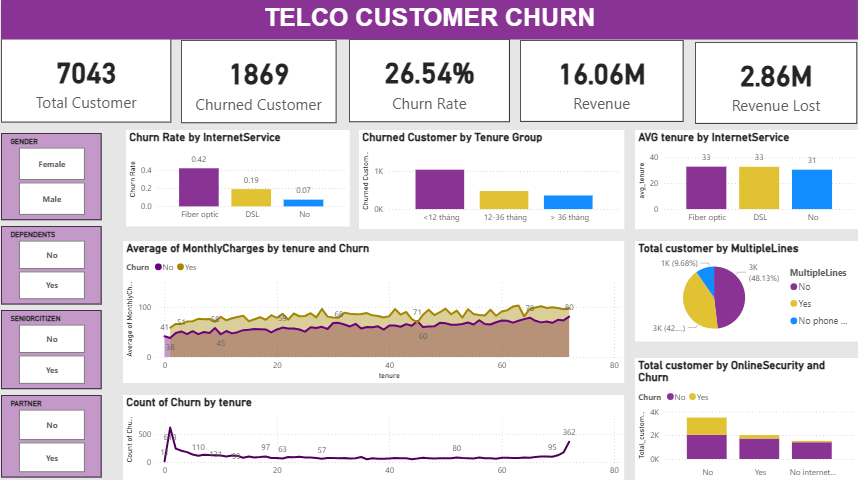

The page's visual inventory and layout, read from the dashboard file:
{"tool":"powerbi","page":{"name":"Page 1","canvas":[1280,720],"ordinal":0},"visuals":[{"type":"card","fields":{"Values":["Count(Telco-Customer-Churn (2).customerID)"]},"box":[0,57.1,254.3,125.7],"z":0},{"type":"card","fields":{"Values":["Telco-Customer-Churn (2).Churned_customer"]},"box":[268,60,232,124],"z":1000},{"type":"card","fields":{"Values":["Telco-Customer-Churn (2).Churn_Rate"]},"box":[520,58,240,124],"z":2000},{"type":"clusteredColumnChart","title":"Churned Customer by Tenure Group","fields":{"Y":["Telco-Customer-Churn (2).Churned_customer"],"Category":["Telco-Customer-Churn (2).Tenure Group"]},"box":[534,194,396,148],"z":3000},{"type":"clusteredColumnChart","title":"AVG tenure by InternetService","fields":{"Y":["Telco-Customer-Churn (2).avg_tenure"],"Category":["Telco-Customer-Churn (2).InternetService"]},"box":[946,194,334,148],"z":4000},{"type":"columnChart","title":"Total customer by OnlineSecurity and Churn","fields":{"Y":["Telco-Customer-Churn (2).Total_customer"],"Series":["Telco-Customer-Churn (2).Churn"],"Category":["Telco-Customer-Churn (2).OnlineSecurity"]},"box":[946,534.9,333.3,185.7],"z":5000},{"type":"pieChart","title":"Total customer by MultipleLines","fields":{"Category":["Telco-Customer-Churn (2).MultipleLines"],"Y":["Telco-Customer-Churn (2).Total_customer"]},"box":[946,360,334,150],"z":6000},{"type":"slicer","fields":{"Values":["Telco-Customer-Churn (2).Dependents"]},"box":[0,337,150,117],"z":7000},{"type":"slicer","fields":{"Values":["Telco-Customer-Churn (2).SeniorCitizen"]},"box":[0,462,150,118],"z":8000},{"type":"columnChart","title":"Churn Rate by InternetService","fields":{"Category":["Telco-Customer-Churn (2).InternetService"],"Y":["Telco-Customer-Churn (2).Churn_Rate"]},"box":[186,194,334,144],"z":9000},{"type":"textbox","box":[0,0,1279,58.5],"z":10000},{"type":"slicer","fields":{"Values":["Telco-Customer-Churn (2).gender"]},"box":[0,198.3,150,130],"z":11000},{"type":"card","fields":{"Values":["Telco-Customer-Churn (2).Revenue Lost"]},"box":[1036,62,242,122],"z":12000},{"type":"card","fields":{"Values":["Sum(Telco-Customer-Churn (2).TotalCharges)"]},"box":[774,60,244,122],"z":13000},{"type":"areaChart","fields":{"Category":["Telco-Customer-Churn (2).tenure"],"Y":["Avg(Telco-Customer-Churn (2).MonthlyCharges)"],"Series":["Telco-Customer-Churn (2).Churn"]},"box":[182,360,748,212],"z":14000},{"type":"slicer","fields":{"Values":["Telco-Customer-Churn (2).Partner"]},"box":[0,589,150,123],"z":15000},{"type":"lineChart","fields":{"Category":["Telco-Customer-Churn (2).tenure"],"Y":["CountNonNull(Telco-Customer-Churn (2).Churn)"]},"box":[182,590,748,130],"z":16000}]}

Visuals, with their boxes in screenshot pixels (x1, y1, x2, y2), scaled from the page's 1280x720 canvas onto the 858x480 screenshot:
card - Count(Telco-Customer-Churn (2).customerID): <region>0, 38, 170, 122</region>
card - Telco-Customer-Churn (2).Churned_customer: <region>180, 40, 335, 123</region>
card - Telco-Customer-Churn (2).Churn_Rate: <region>349, 39, 509, 121</region>
"Churned Customer by Tenure Group" clusteredColumnChart: <region>358, 129, 623, 228</region>
"AVG tenure by InternetService" clusteredColumnChart: <region>634, 129, 857, 228</region>
"Total customer by OnlineSecurity and Churn" columnChart: <region>634, 357, 857, 479</region>
"Total customer by MultipleLines" pieChart: <region>634, 240, 857, 340</region>
slicer - Telco-Customer-Churn (2).Dependents: <region>0, 225, 101, 303</region>
slicer - Telco-Customer-Churn (2).SeniorCitizen: <region>0, 308, 101, 387</region>
"Churn Rate by InternetService" columnChart: <region>125, 129, 349, 225</region>
textbox: <region>0, 0, 857, 39</region>
slicer - Telco-Customer-Churn (2).gender: <region>0, 132, 101, 219</region>
card - Telco-Customer-Churn (2).Revenue Lost: <region>694, 41, 857, 123</region>
card - Sum(Telco-Customer-Churn (2).TotalCharges): <region>519, 40, 682, 121</region>
areaChart - Telco-Customer-Churn (2).tenure x Avg(Telco-Customer-Churn (2).MonthlyCharges): <region>122, 240, 623, 381</region>
slicer - Telco-Customer-Churn (2).Partner: <region>0, 393, 101, 475</region>
lineChart - Telco-Customer-Churn (2).tenure x CountNonNull(Telco-Customer-Churn (2).Churn): <region>122, 393, 623, 479</region>
